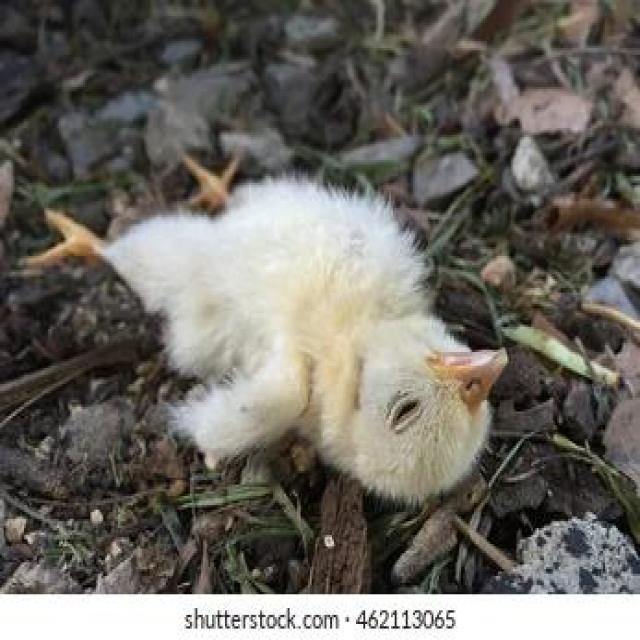Unhealthy: (23, 121, 524, 520)
